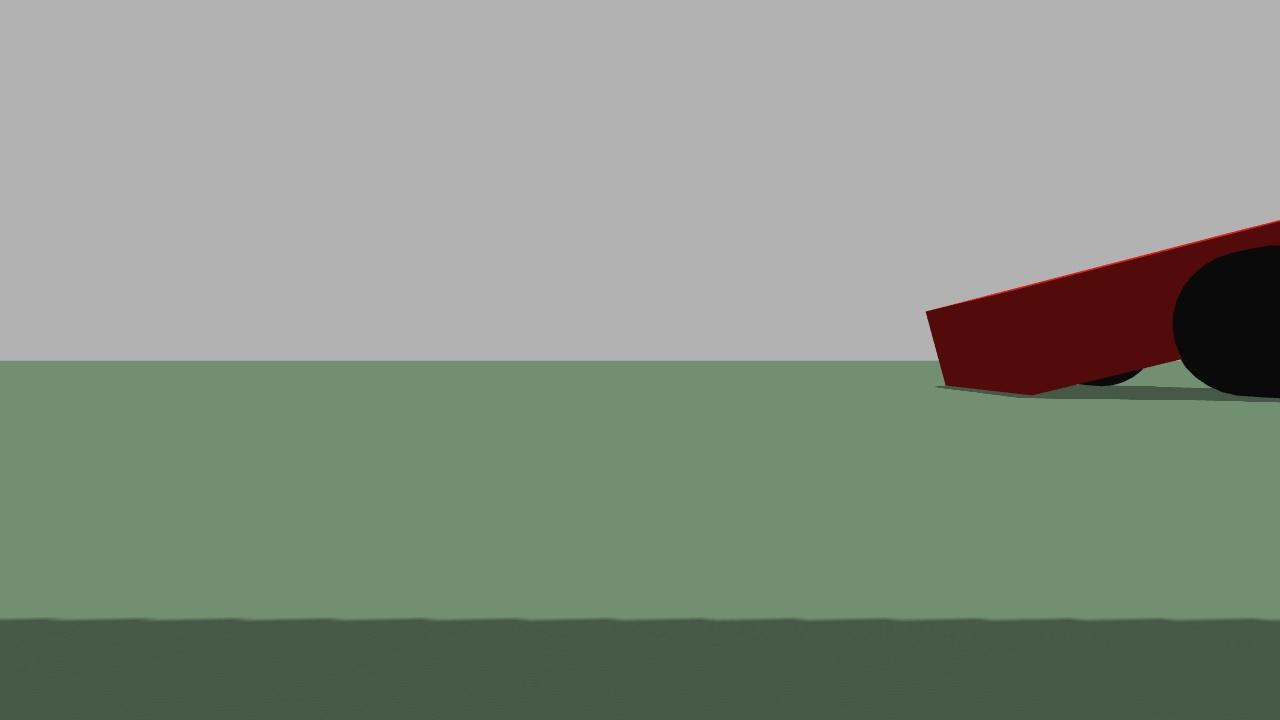ground_vehicle: (915, 205, 1280, 458)
